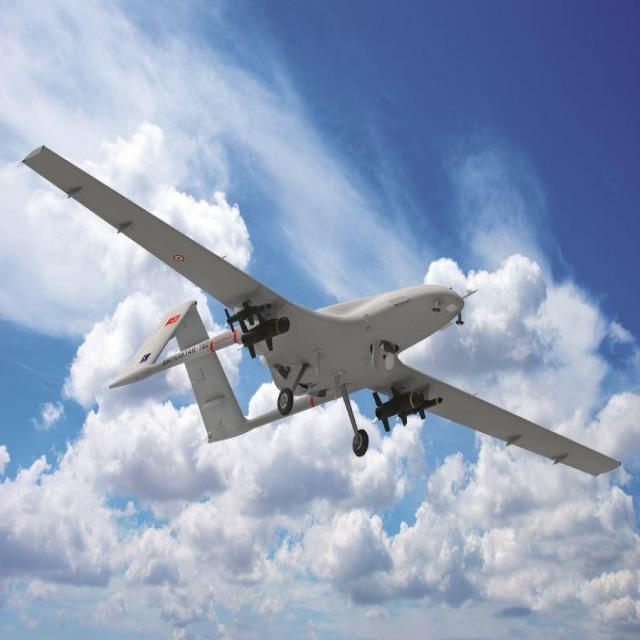iha: (20, 142, 624, 490)
